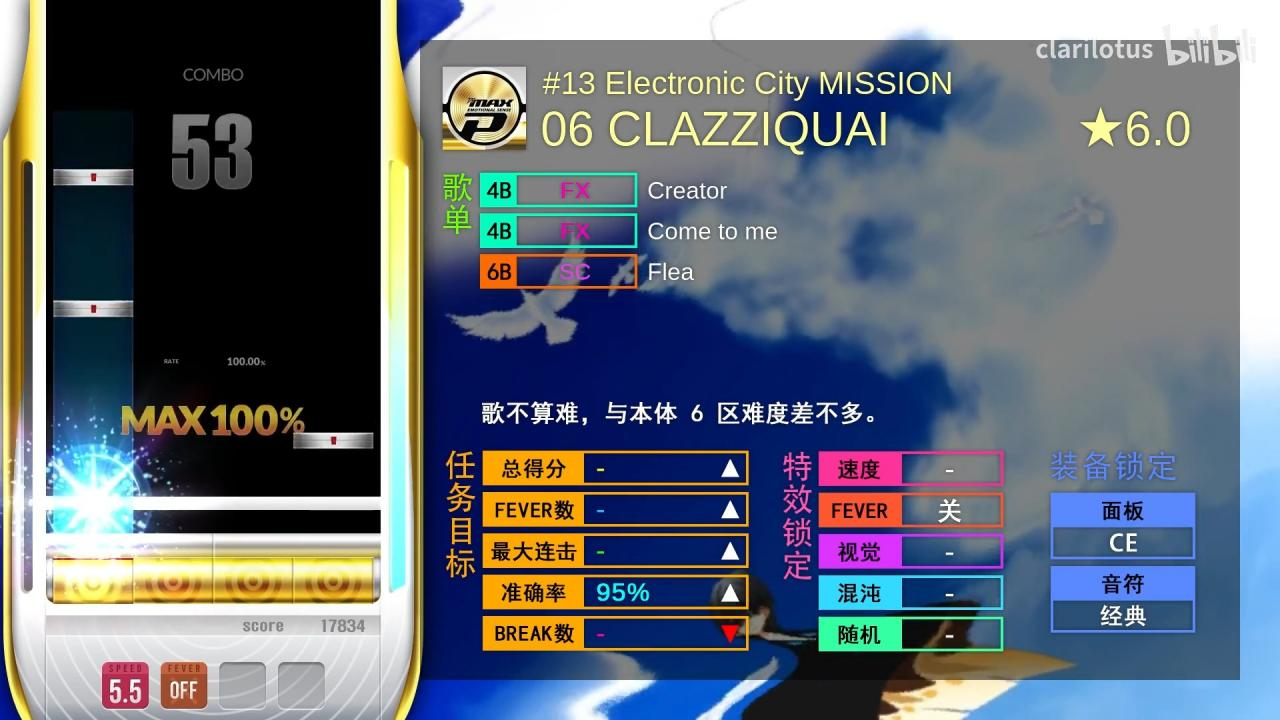note: (53, 168, 133, 187), (54, 300, 134, 318), (293, 432, 373, 449)
